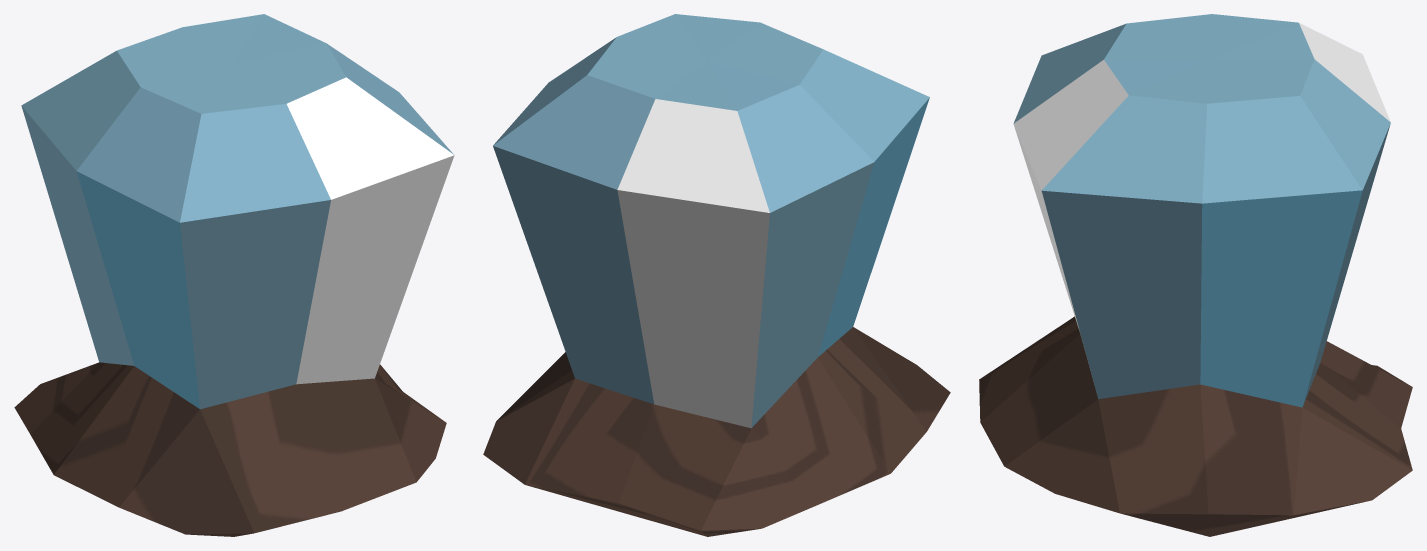
File: Model_Mineral3.fbx
The picture shows the model from 3 angles, left to right: view 1: azimuth 30°, elevation 25°; view 2: azimuth 150°, elevation 25°; view 3: azimuth 270°, elevation 25°; orthographic projection.
Visible parts, largest first — view 1: Cube; view 2: Cube; view 3: Cube.
Part boxes in pixels (bbox=[...]): Cube: bbox=[14, 14, 454, 536]; Cube: bbox=[483, 14, 950, 536]; Cube: bbox=[979, 14, 1412, 536].
Bounding box in the file's own units: 300 × 388 × 319.
